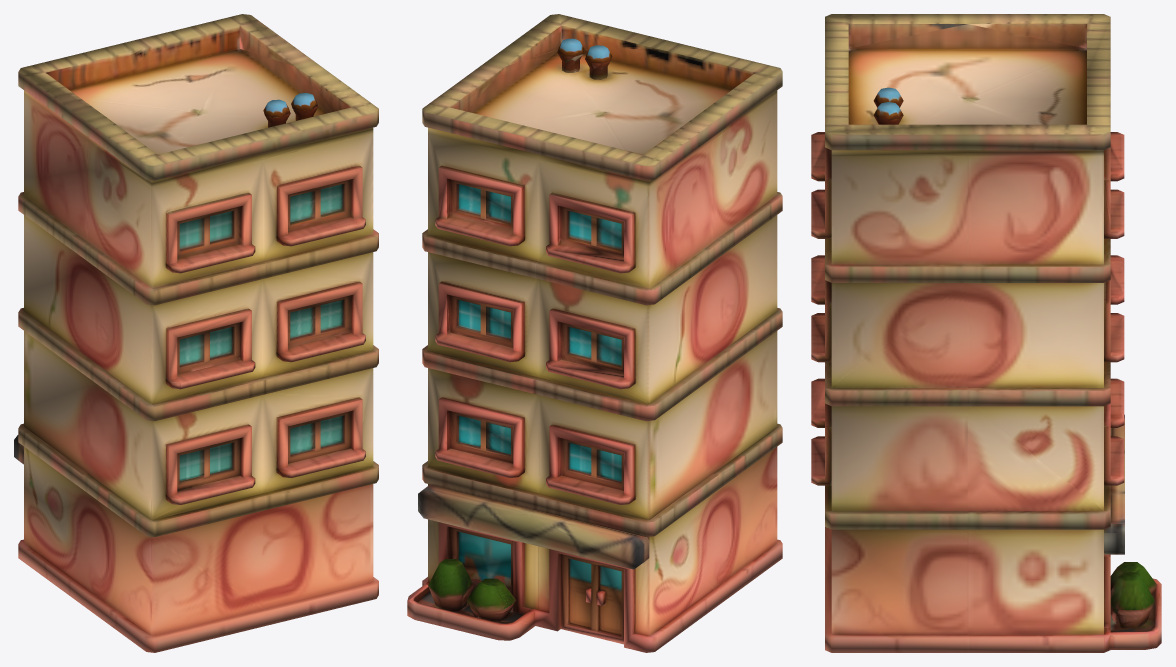
File: building_2.glb
The picture shows the model from 3 angles, left to right: view 1: azimuth 30°, elevation 25°; view 2: azimuth 150°, elevation 25°; view 3: azimuth 270°, elevation 25°; orthographic projection. The views are drawn at different scales.
Parts seen in each view (by area): view 1: Mesh_0; view 2: Mesh_0; view 3: Mesh_0.
Boxes of the visible parts, box(x1,y1,x2,y2) form: Mesh_0: box(14, 14, 378, 652); Mesh_0: box(407, 14, 782, 652); Mesh_0: box(811, 14, 1161, 652).
Bounding box in the file's own units: 2.98 × 6 × 3.65.
Materials: 1 (1 with a texture image).
